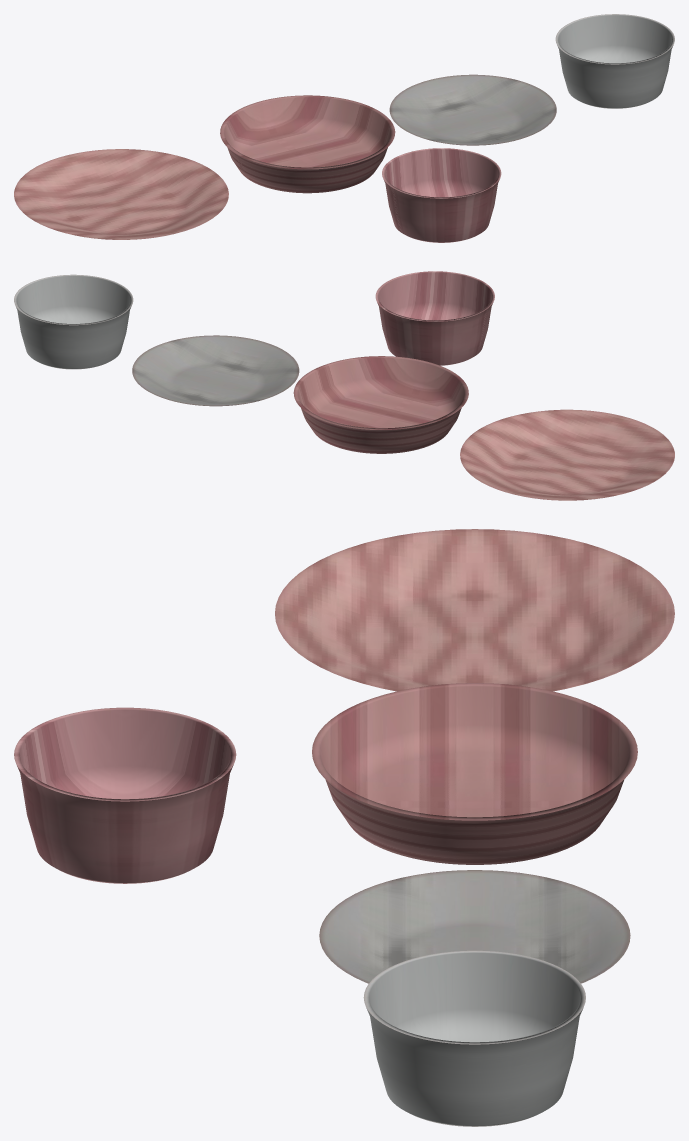
File: RAY-06.glb
3 renders of one model, top to bottom at view 1: azimuth 30°, elevation 25°; view 2: azimuth 150°, elevation 25°; view 3: azimuth 270°, elevation 25°, orthographic. The views are drawn at different scales.
Bounding box in the file's own units: 0.926 × 0.07 × 0.446.
10 materials, 10 textured.
